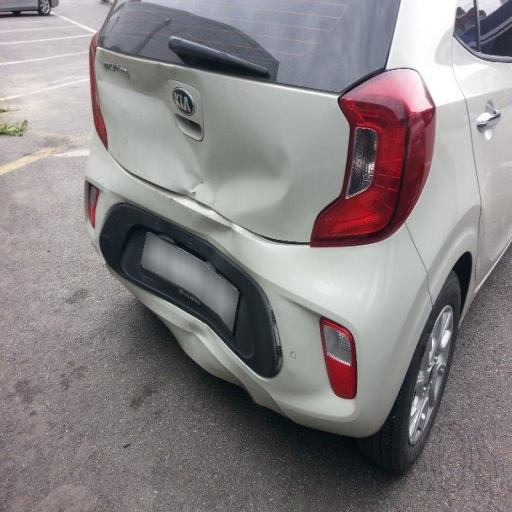dent: (108, 25, 336, 415)
